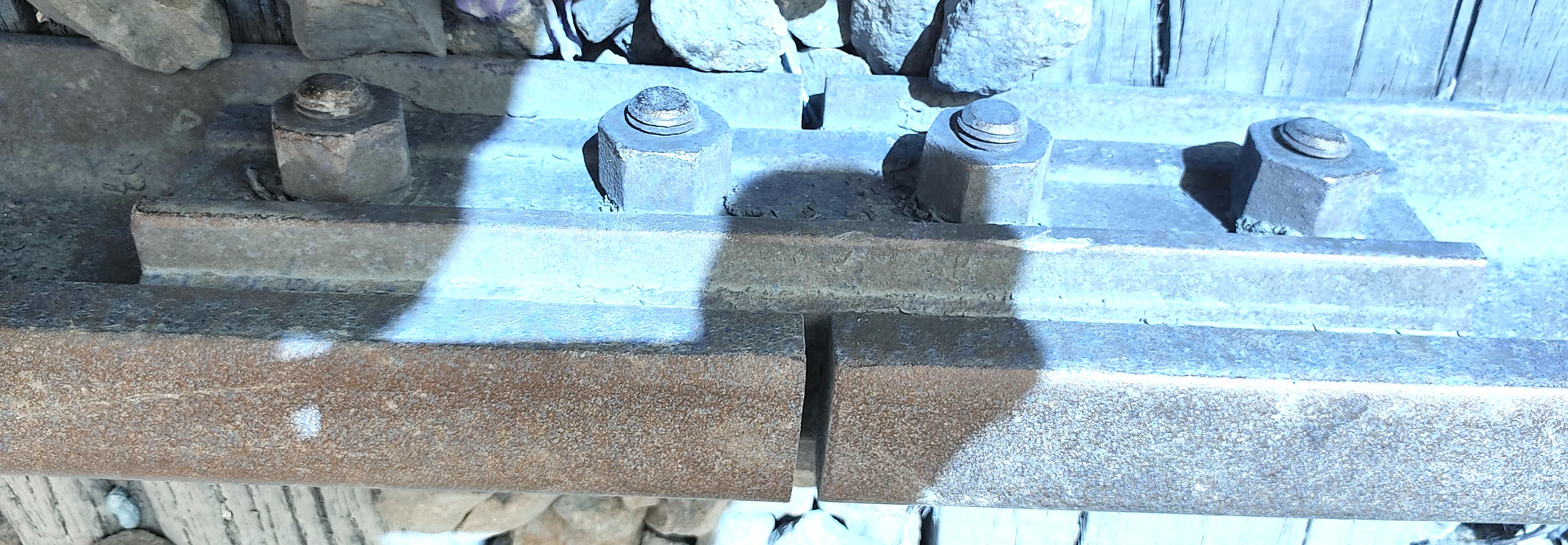duan lie: (761, 298, 867, 518)
